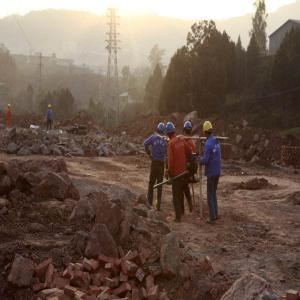blue: (166, 122, 177, 140), (183, 121, 193, 139), (157, 123, 166, 137)
yellow: (203, 121, 214, 141)
